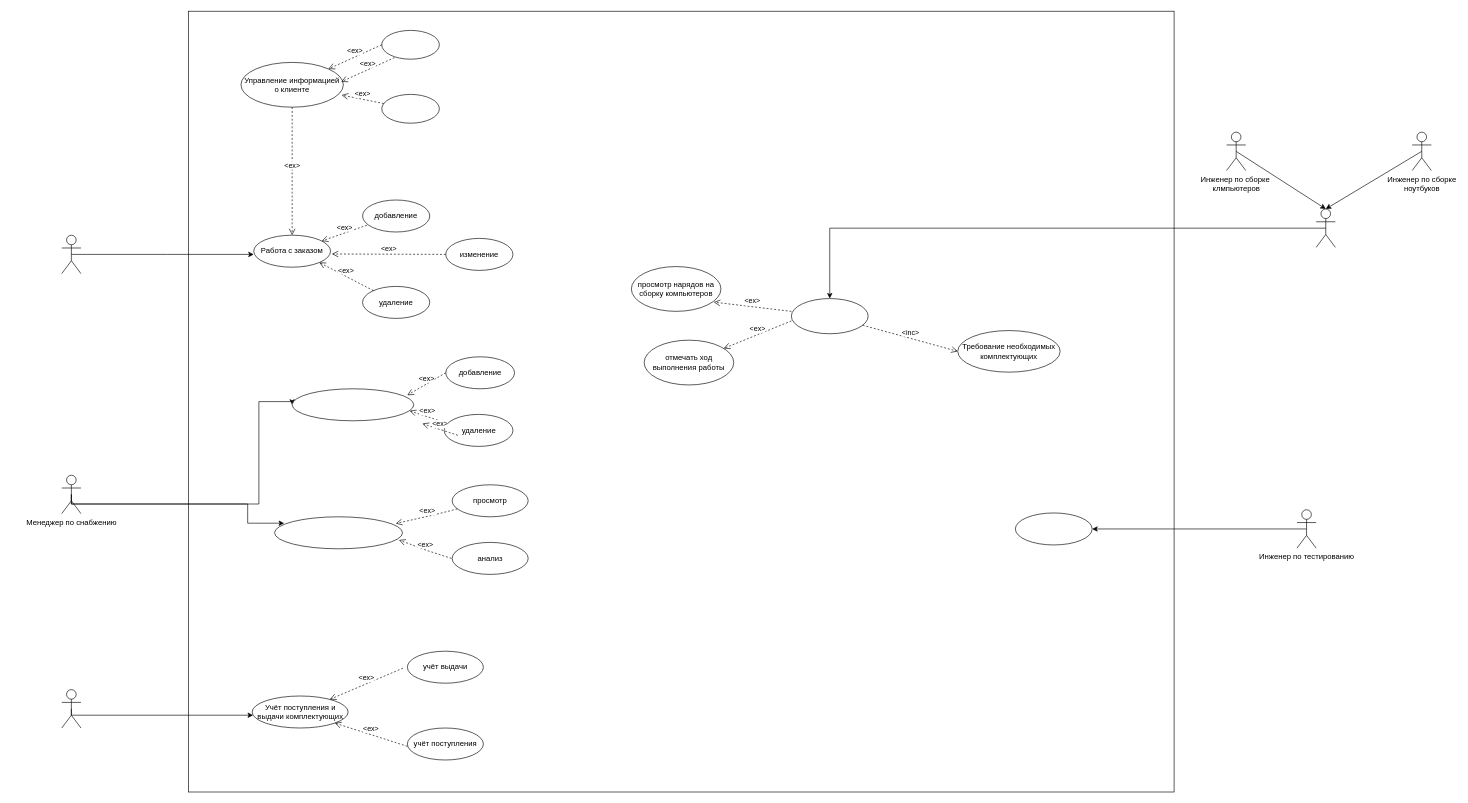
The diagram is 1468 pixels wide and 803 high, and some of its shapes have lost their labels. Each missing label, with the centre of its shape:
добавление клиентов: (410,44)
Завскладом: (71,708)
Инженер по сборке: (1325,227)
Менеджер по работе с клиентами: (71,254)
Сборка компьютеров: (829,316)
Тестирование компьютеров: (1053,528)
удаление клиентов: (410,108)
Управление информацией о комплектующих: (338,532)
Управление информацией о поставщиках: (353,404)
